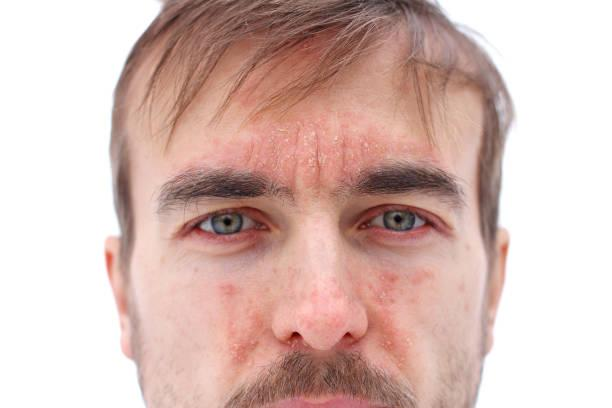Dry-Skin: (240, 100, 401, 182), (173, 269, 304, 354), (360, 254, 452, 359)
